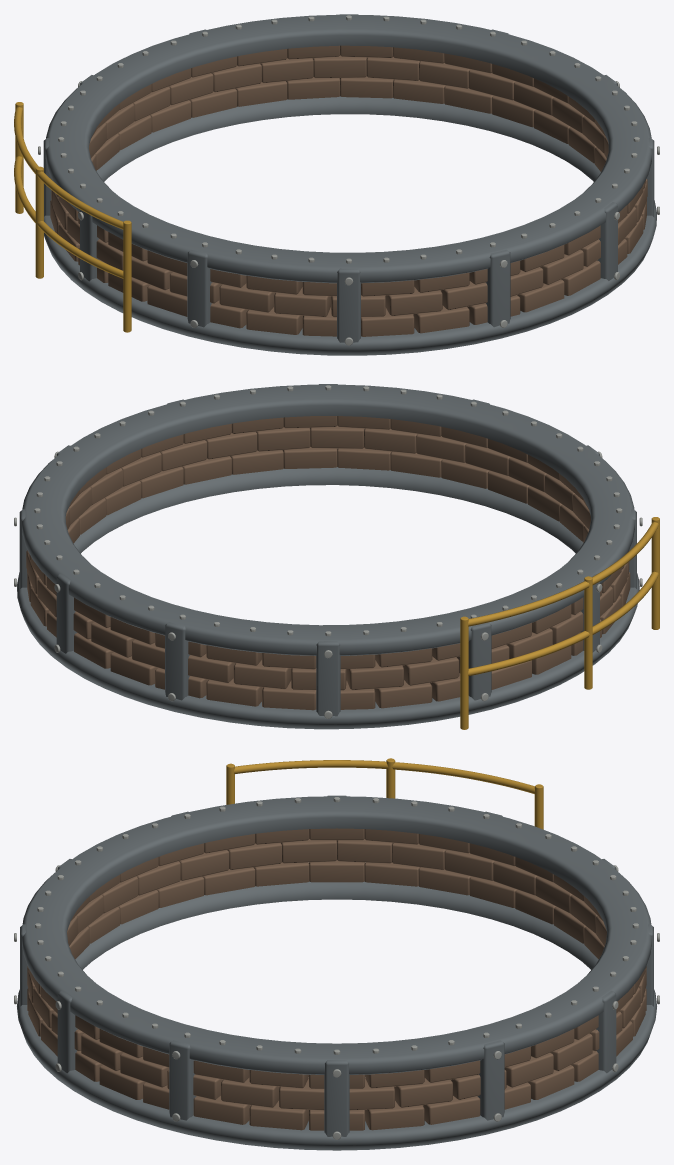
Rendered from foundry-reservoir.glb.
The picture shows the model from 3 angles, top to bottom: view 1: azimuth 30°, elevation 25°; view 2: azimuth 150°, elevation 25°; view 3: azimuth 270°, elevation 25°; orthographic projection. The views are drawn at different scales.
Visible parts, largest first — view 1: Reservoir_Foundry_Iron, Reservoir_Foundry_Firebrick, Reservoir_Foundry_SafetyGold, Reservoir_Foundry_Machined; view 2: Reservoir_Foundry_Iron, Reservoir_Foundry_Firebrick, Reservoir_Foundry_SafetyGold, Reservoir_Foundry_Machined; view 3: Reservoir_Foundry_Iron, Reservoir_Foundry_Firebrick, Reservoir_Foundry_SafetyGold, Reservoir_Foundry_Machined.
Part boxes in pixels (x1,y1,x2,y2): Reservoir_Foundry_Iron: (43,14,656,355); Reservoir_Foundry_Firebrick: (50,45,647,336); Reservoir_Foundry_SafetyGold: (14,102,131,332); Reservoir_Foundry_Machined: (38,15,659,345); Reservoir_Foundry_Iron: (17,384,639,729); Reservoir_Foundry_Firebrick: (26,416,630,710); Reservoir_Foundry_SafetyGold: (460,517,659,729); Reservoir_Foundry_Machined: (14,385,642,718); Reservoir_Foundry_Iron: (17,795,656,1150); Reservoir_Foundry_Firebrick: (27,828,646,1130); Reservoir_Foundry_SafetyGold: (226,758,543,829); Reservoir_Foundry_Machined: (14,797,659,1139).
Size of the model in its own units: 5.36 by 1 by 5.16.
